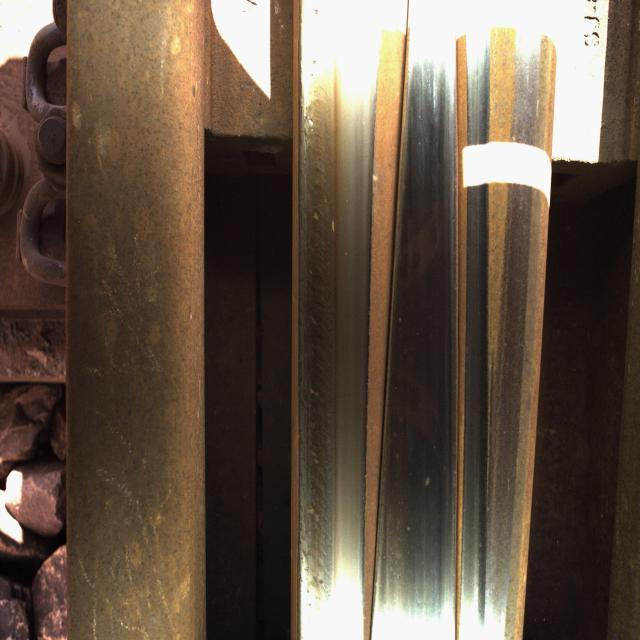scar: (292, 82, 338, 598)
